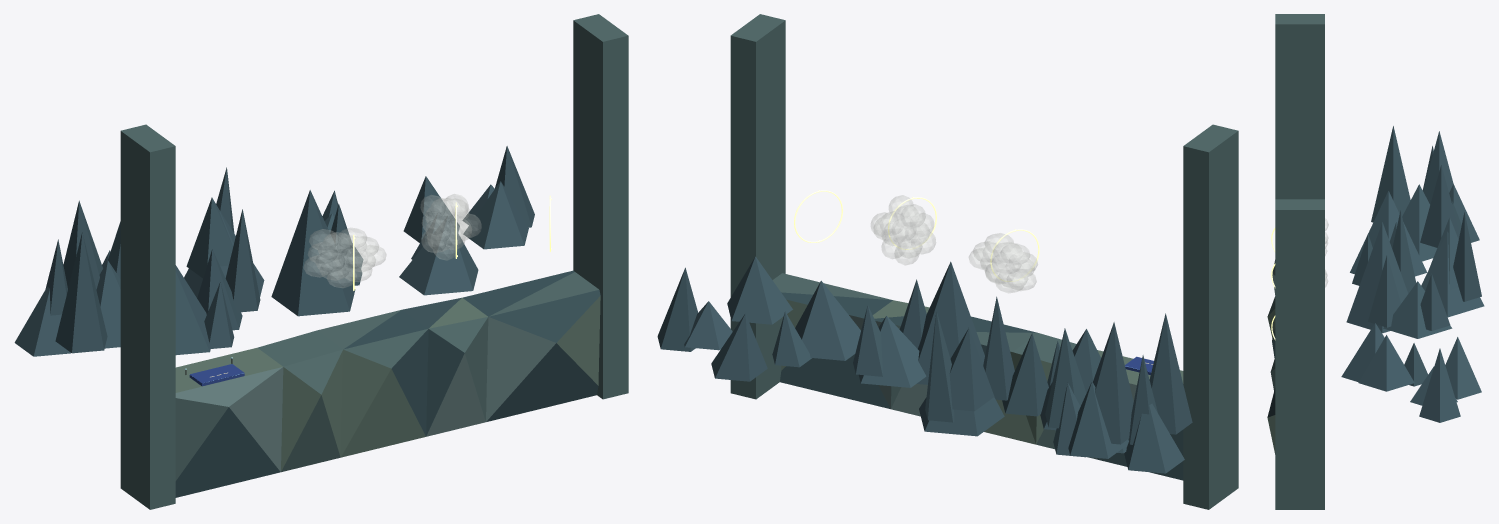
File: 08-clouds.glb
3 views of the same model, side by side, from view 1: azimuth 30°, elevation 25°; view 2: azimuth 150°, elevation 25°; view 3: azimuth 270°, elevation 25° (orthographic). The views are drawn at different scales.
Parts seen in each view (by area): view 1: terrain_floor, terrain_wall_-1, terrain_wall_1, background_spire_22, background_spire_05, background_spire_17, background_spire_20, background_spire_08, background_spire_23, background_spire_24, background_spire_13, background_spire_10 (+9 smaller); view 2: terrain_wall_-1, terrain_wall_1, terrain_floor, background_spire_05, background_spire_22, background_spire_01, background_spire_17, background_spire_20, background_spire_24, background_spire_13, background_spire_04, background_spire_07 (+14 smaller); view 3: terrain_wall_1, terrain_wall_-1, background_spire_22, background_spire_20, background_spire_06, background_spire_17, background_spire_03, background_spire_00, background_spire_04, background_spire_14, background_spire_08, background_spire_11 (+12 smaller).
Part boxes in pixels (x1=…): terrain_floor: x1=175, y1=270, x2=600, y2=497; terrain_wall_-1: x1=120, y1=124, x2=175, y2=509; terrain_wall_1: x1=573, y1=14, x2=628, y2=399; background_spire_22: x1=271, y1=190, x2=355, y2=316; background_spire_05: x1=399, y1=215, x2=478, y2=295; background_spire_17: x1=55, y1=232, x2=107, y2=353; background_spire_20: x1=463, y1=181, x2=528, y2=249; background_spire_08: x1=175, y1=265, x2=210, y2=355; background_spire_23: x1=225, y1=209, x2=260, y2=312; background_spire_24: x1=14, y1=286, x2=70, y2=356; background_spire_13: x1=186, y1=197, x2=232, y2=278; background_spire_10: x1=96, y1=261, x2=120, y2=348; terrain_wall_-1: x1=1183, y1=124, x2=1238, y2=509; terrain_wall_1: x1=730, y1=14, x2=785, y2=399; terrain_floor: x1=772, y1=273, x2=1183, y2=480; background_spire_05: x1=795, y1=280, x2=860, y2=360; background_spire_22: x1=916, y1=261, x2=984, y2=384; background_spire_01: x1=1092, y1=322, x2=1133, y2=444; background_spire_17: x1=1149, y1=313, x2=1192, y2=434; background_spire_20: x1=727, y1=256, x2=792, y2=324; background_spire_24: x1=1124, y1=403, x2=1184, y2=473; background_spire_13: x1=949, y1=328, x2=994, y2=411; background_spire_04: x1=858, y1=316, x2=926, y2=387; background_spire_07: x1=711, y1=313, x2=767, y2=381; terrain_wall_1: x1=1275, y1=199, x2=1324, y2=509; terrain_wall_-1: x1=1275, y1=14, x2=1324, y2=199; background_spire_22: x1=1346, y1=222, x2=1408, y2=333; background_spire_20: x1=1358, y1=335, x2=1414, y2=391; background_spire_06: x1=1419, y1=348, x2=1460, y2=422; background_spire_17: x1=1371, y1=126, x2=1410, y2=222; background_spire_03: x1=1421, y1=232, x2=1484, y2=317; background_spire_00: x1=1420, y1=165, x2=1459, y2=247; background_spire_04: x1=1383, y1=281, x2=1452, y2=338; background_spire_14: x1=1453, y1=212, x2=1481, y2=301; background_spire_08: x1=1350, y1=191, x2=1427, y2=276; background_spire_11: x1=1368, y1=255, x2=1400, y2=327.
Size of what is drawn, in the model's own units: 60.22 by 40 by 26.24.
